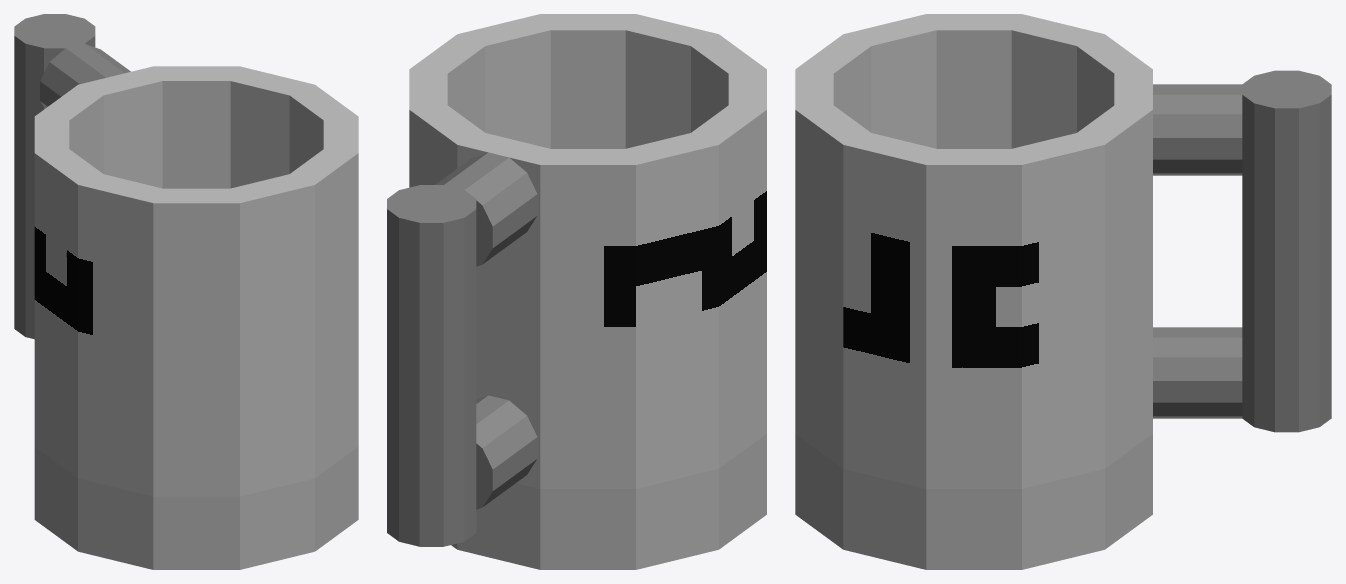
Rendered from Mug.gltf.
3 views of the same model, side by side, from view 1: azimuth 30°, elevation 25°; view 2: azimuth 150°, elevation 25°; view 3: azimuth 270°, elevation 25° (orthographic). The views are drawn at different scales.
Visible parts, largest first — view 1: tube, cylinder (×3); view 2: tube, cylinder (×4); view 3: tube, cylinder (×4).
Boxes of the visible parts, left/top/right/bottom form: tube: left=34, top=66, right=358, bottom=496; cylinder (×3): left=14, top=14, right=358, bottom=569; tube: left=409, top=14, right=766, bottom=488; cylinder (×4): left=387, top=152, right=766, bottom=569; tube: left=795, top=14, right=1152, bottom=488; cylinder (×4): left=795, top=70, right=1331, bottom=569.
Size of the model in its own units: 0.5 by 0.625 by 0.75.
Materials: 5 (5 with a texture image).
